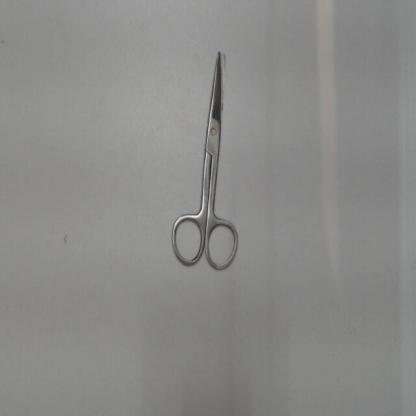Dressing Scissors: (164, 37, 248, 281)
